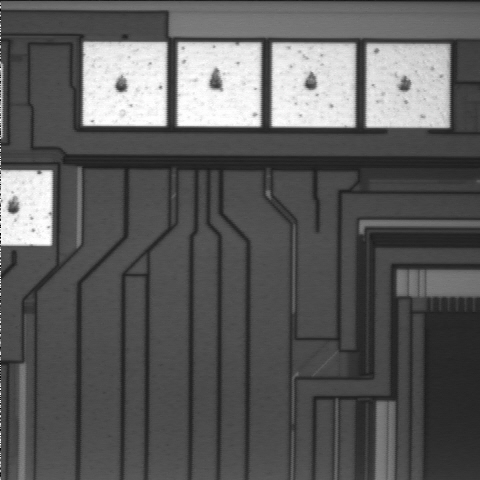pad: (177, 42, 261, 127), (83, 42, 167, 126), (272, 43, 355, 127), (366, 44, 449, 128)
